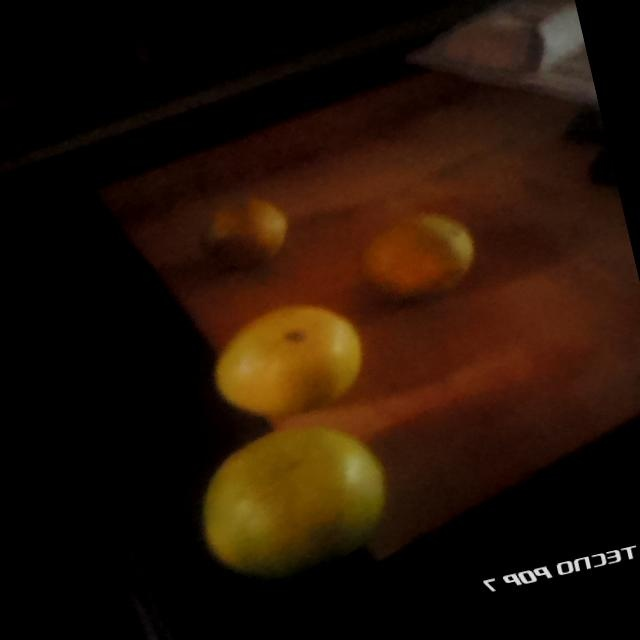agrume: (177, 414, 411, 593), (188, 287, 381, 442), (357, 194, 491, 303), (206, 187, 297, 269)
